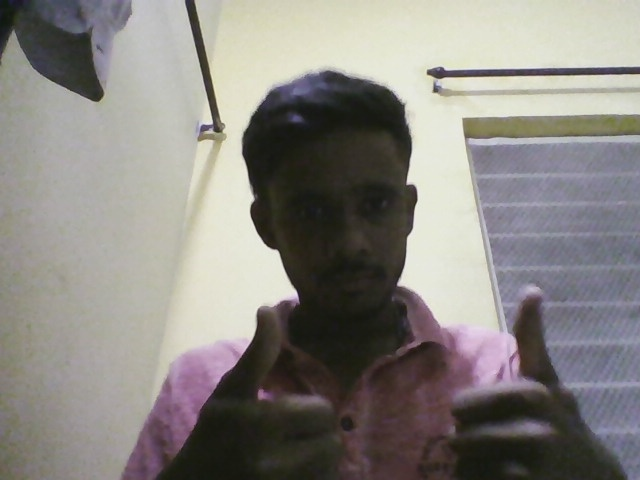thankyou: (164, 288, 610, 480)
